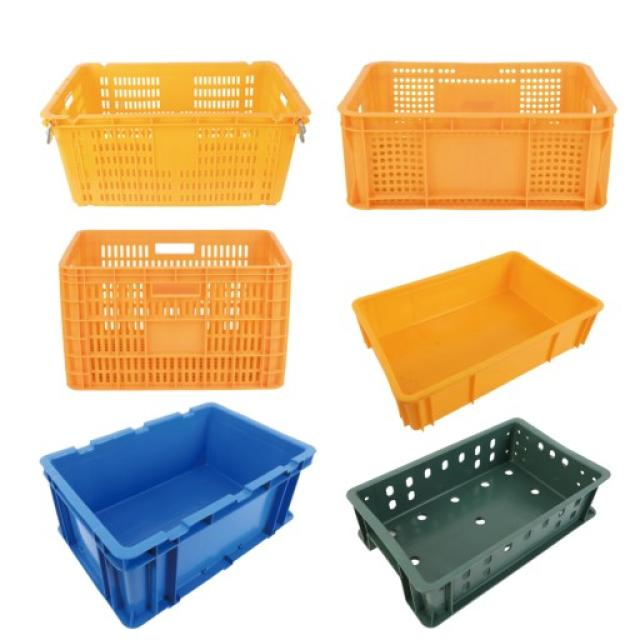basket: (23, 339, 346, 638), (336, 364, 627, 634), (343, 199, 617, 435), (338, 62, 618, 210), (41, 62, 312, 207), (59, 230, 291, 389)
